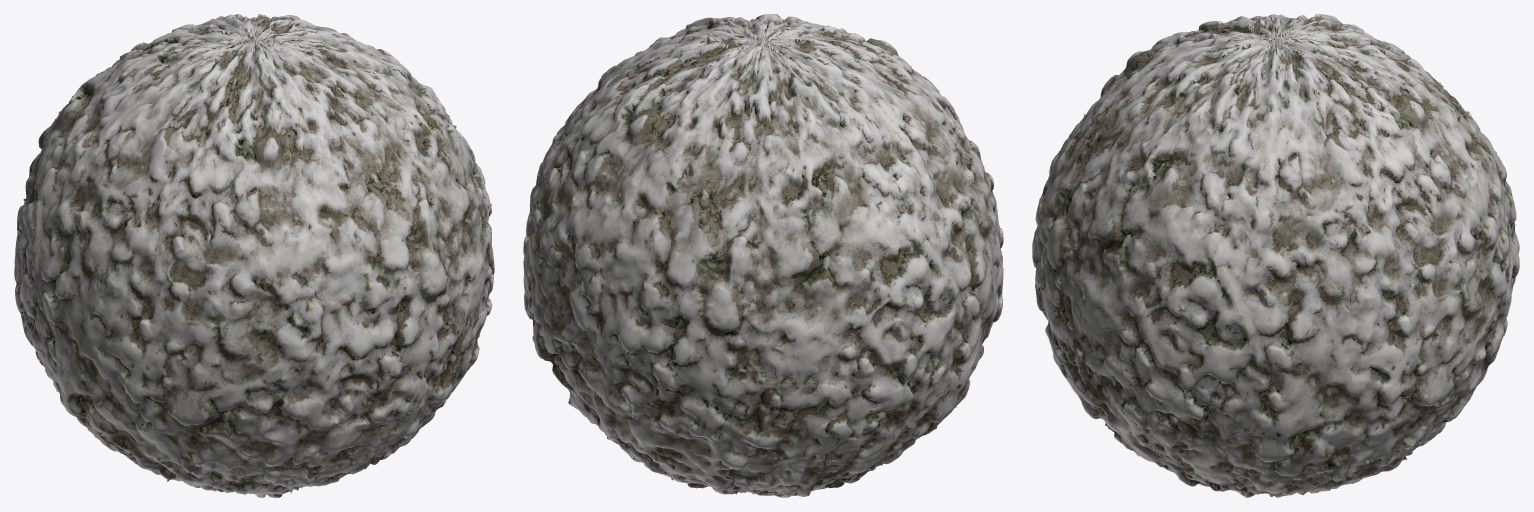
File: snow_03_1k.gltf
3 views of the same model, side by side, from view 1: azimuth 30°, elevation 25°; view 2: azimuth 150°, elevation 25°; view 3: azimuth 270°, elevation 25° (orthographic).
Parts seen in each view (by area): view 1: sphere_gltf; view 2: sphere_gltf; view 3: sphere_gltf.
Boxes of the visible parts, x1,y1,x2,y2 form: sphere_gltf: [14, 14, 494, 497]; sphere_gltf: [523, 14, 1003, 497]; sphere_gltf: [1032, 14, 1519, 497].
Size of the model in its own units: 2.02 by 2.02 by 2.03.
1 material, 1 textured.
